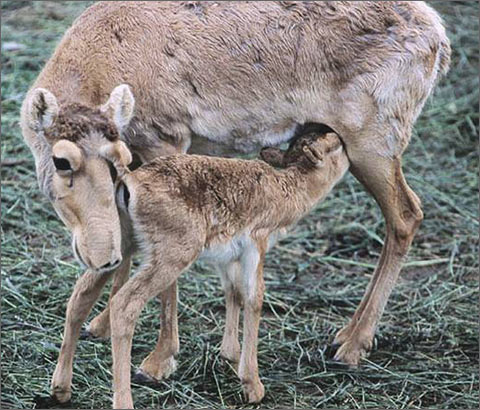saiga: (22, 1, 450, 378)
